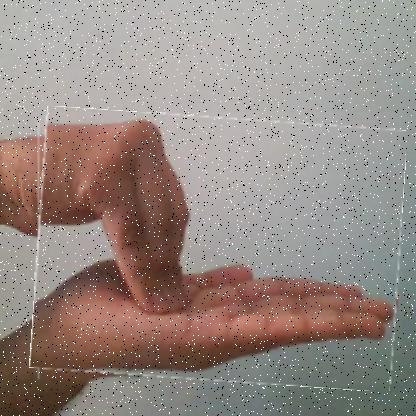Z: (34, 112, 403, 386)
